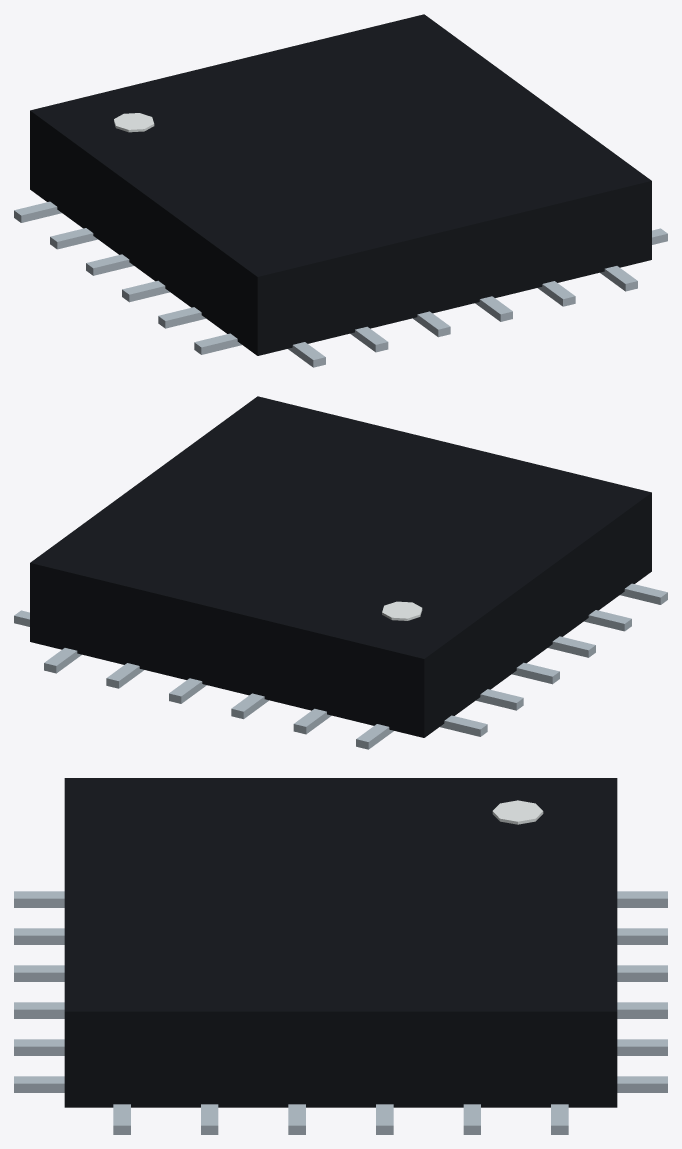
3 renders of one model, top to bottom at view 1: azimuth 30°, elevation 25°; view 2: azimuth 150°, elevation 25°; view 3: azimuth 270°, elevation 25°, orthographic. The views are drawn at different scales.
Parts seen in each view (by area): view 1: 017_L106_U15_000, 017_L106_U15_025, 017_L106_U15_001, 017_L106_U15_005, 017_L106_U15_009, 017_L106_U15_013, 017_L106_U15_021, 017_L106_U15_017, 017_L106_U15_006, 017_L106_U15_010, 017_L106_U15_018, 017_L106_U15_002 (+2 smaller); view 2: 017_L106_U15_000, 017_L106_U15_025, 017_L106_U15_013, 017_L106_U15_017, 017_L106_U15_021, 017_L106_U15_001, 017_L106_U15_009, 017_L106_U15_005, 017_L106_U15_008, 017_L106_U15_012, 017_L106_U15_020, 017_L106_U15_004 (+2 smaller); view 3: 017_L106_U15_000, 017_L106_U15_025, 017_L106_U15_002, 017_L106_U15_004, 017_L106_U15_006, 017_L106_U15_008, 017_L106_U15_010, 017_L106_U15_012, 017_L106_U15_014, 017_L106_U15_016, 017_L106_U15_018, 017_L106_U15_020 (+8 smaller).
Part boxes in pixels (left/top/right/bottom): 017_L106_U15_000: left=30, top=14, right=651, bottom=355; 017_L106_U15_025: left=114, top=113, right=154, bottom=132; 017_L106_U15_001: left=194, top=333, right=241, bottom=354; 017_L106_U15_005: left=158, top=307, right=205, bottom=328; 017_L106_U15_009: left=122, top=280, right=169, bottom=302; 017_L106_U15_013: left=86, top=254, right=133, bottom=275; 017_L106_U15_021: left=14, top=201, right=61, bottom=222; 017_L106_U15_017: left=50, top=228, right=97, bottom=249; 017_L106_U15_006: left=350, top=326, right=388, bottom=352; 017_L106_U15_010: left=413, top=311, right=450, bottom=337; 017_L106_U15_018: left=538, top=281, right=575, bottom=306; 017_L106_U15_002: left=288, top=342, right=325, bottom=367; 017_L106_U15_000: left=30, top=396, right=651, bottom=737; 017_L106_U15_025: left=382, top=601, right=422, bottom=620; 017_L106_U15_013: left=512, top=662, right=559, bottom=684; 017_L106_U15_017: left=476, top=689, right=523, bottom=710; 017_L106_U15_021: left=440, top=715, right=487, bottom=736; 017_L106_U15_001: left=620, top=583, right=667, bottom=604; 017_L106_U15_009: left=548, top=636, right=595, bottom=657; 017_L106_U15_005: left=584, top=610, right=631, bottom=631; 017_L106_U15_008: left=293, top=708, right=331, bottom=734; 017_L106_U15_012: left=231, top=693, right=268, bottom=719; 017_L106_U15_020: left=106, top=663, right=143, bottom=688; 017_L106_U15_004: left=356, top=724, right=393, bottom=749; 017_L106_U15_000: left=64, top=778, right=617, bottom=1107; 017_L106_U15_025: left=492, top=800, right=543, bottom=824; 017_L106_U15_002: left=14, top=891, right=64, bottom=907; 017_L106_U15_004: left=617, top=891, right=667, bottom=907; 017_L106_U15_006: left=14, top=928, right=64, bottom=944; 017_L106_U15_008: left=617, top=928, right=667, bottom=944; 017_L106_U15_010: left=14, top=965, right=64, bottom=981; 017_L106_U15_012: left=617, top=965, right=667, bottom=981; 017_L106_U15_014: left=14, top=1002, right=64, bottom=1018; 017_L106_U15_016: left=617, top=1002, right=667, bottom=1018; 017_L106_U15_018: left=14, top=1039, right=64, bottom=1055; 017_L106_U15_020: left=617, top=1039, right=667, bottom=1055.
Size of the model in its own units: 0.0142 by 0.0142 by 0.00254.
